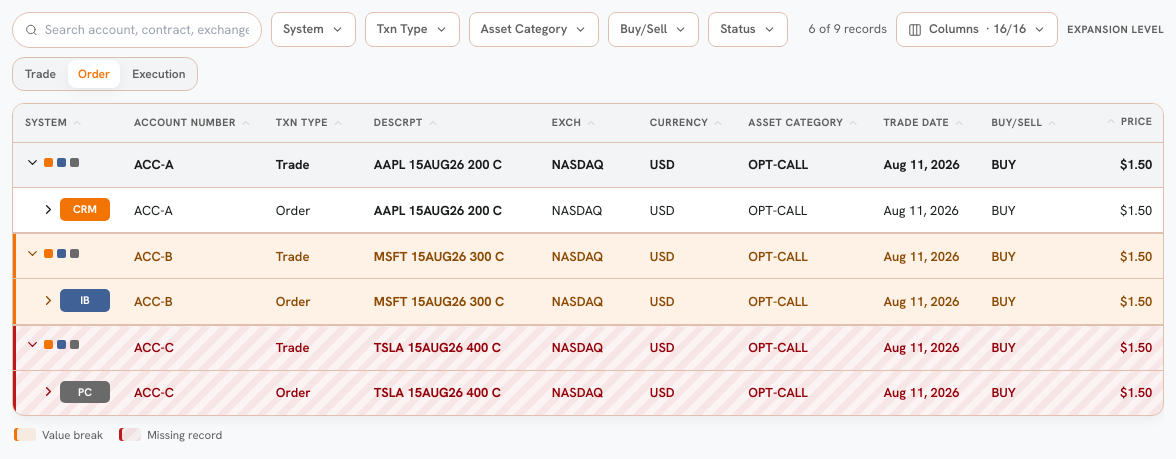
Test: ReconGrid — empty states › shows a no-matches message when trades exist but the filter clears the table
Type "no-such-symbol-zzz" into the field with placeholder "Search account, contract, exchange…". click: (147, 30)
box: [45,20,249,40]
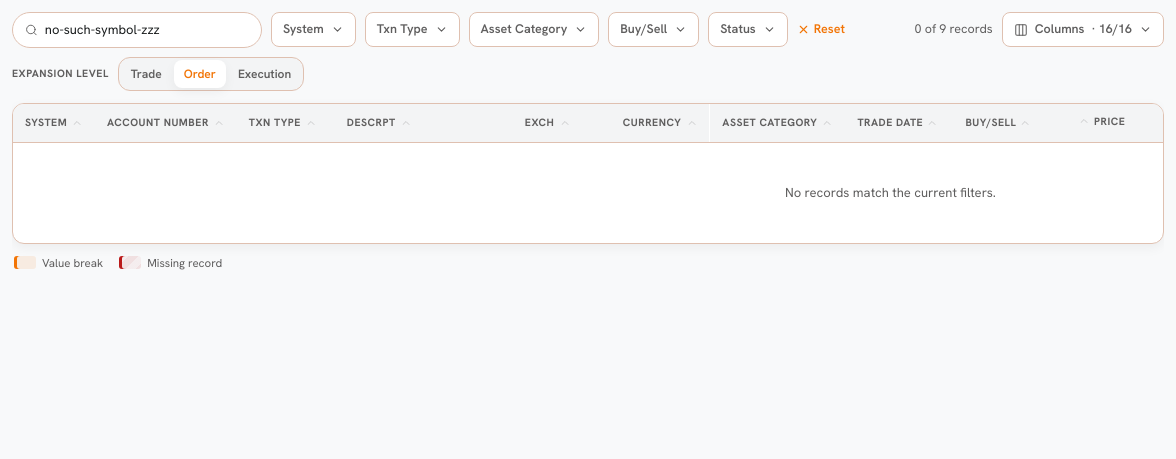
Check: the text "No records match the current filters." is shown, box [13,143,1163,243]
